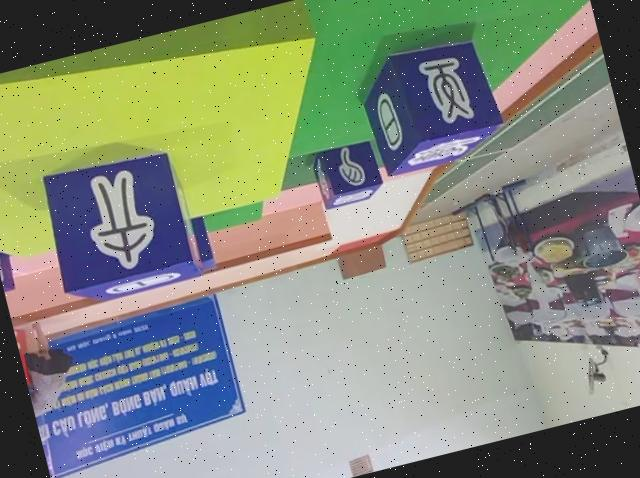R2 Fake Blue: (35, 141, 210, 310), (350, 29, 506, 178), (308, 137, 387, 211), (0, 225, 16, 294)
